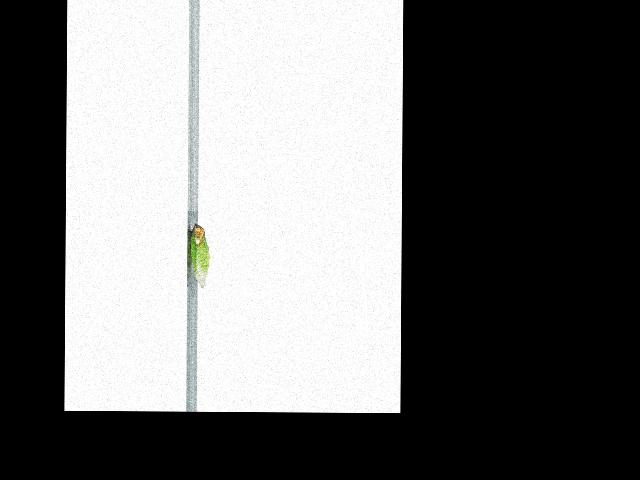lettuce: (186, 221, 212, 288)
